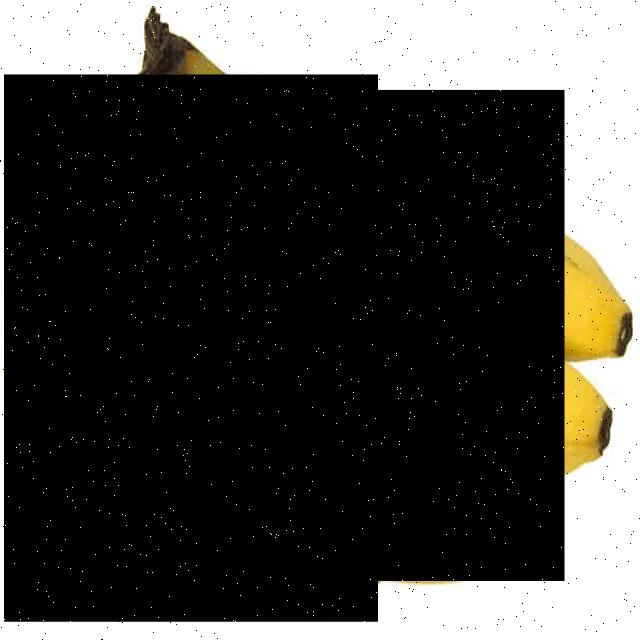Banana: (92, 90, 565, 581), (4, 74, 378, 622), (205, 30, 640, 361)
